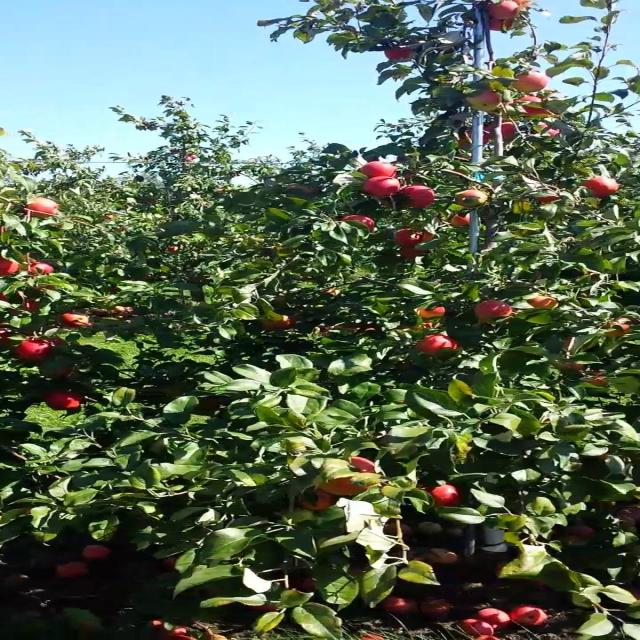apple: (316, 456, 382, 496), (318, 472, 380, 495), (416, 334, 458, 358), (13, 339, 53, 362), (362, 176, 402, 198), (298, 490, 338, 511), (582, 176, 620, 198), (400, 185, 436, 208), (476, 300, 513, 322), (464, 90, 502, 111), (22, 198, 60, 218), (44, 391, 82, 411), (513, 71, 549, 92), (516, 95, 551, 116), (453, 189, 489, 208), (358, 161, 396, 178), (431, 484, 460, 506), (602, 316, 631, 338), (340, 214, 376, 231), (487, 0, 518, 19), (40, 362, 73, 379), (262, 315, 296, 331), (402, 229, 433, 246), (60, 312, 91, 328), (393, 229, 422, 246), (384, 46, 413, 61), (527, 296, 558, 309), (416, 306, 447, 319), (584, 370, 609, 386), (522, 105, 553, 117), (27, 261, 53, 275), (500, 121, 518, 141), (449, 212, 471, 228), (400, 246, 427, 259), (500, 121, 518, 139), (558, 361, 587, 372), (489, 18, 513, 31), (458, 128, 471, 148), (536, 194, 560, 204), (411, 320, 433, 330), (22, 299, 40, 311), (484, 125, 496, 143), (482, 126, 493, 144), (49, 336, 67, 346), (482, 128, 493, 143), (420, 231, 436, 241)
